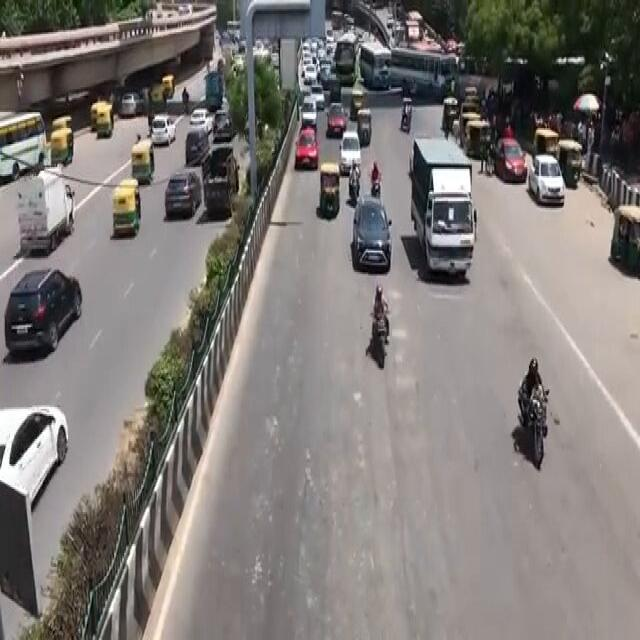three_wheeler: (313, 162, 341, 229)
